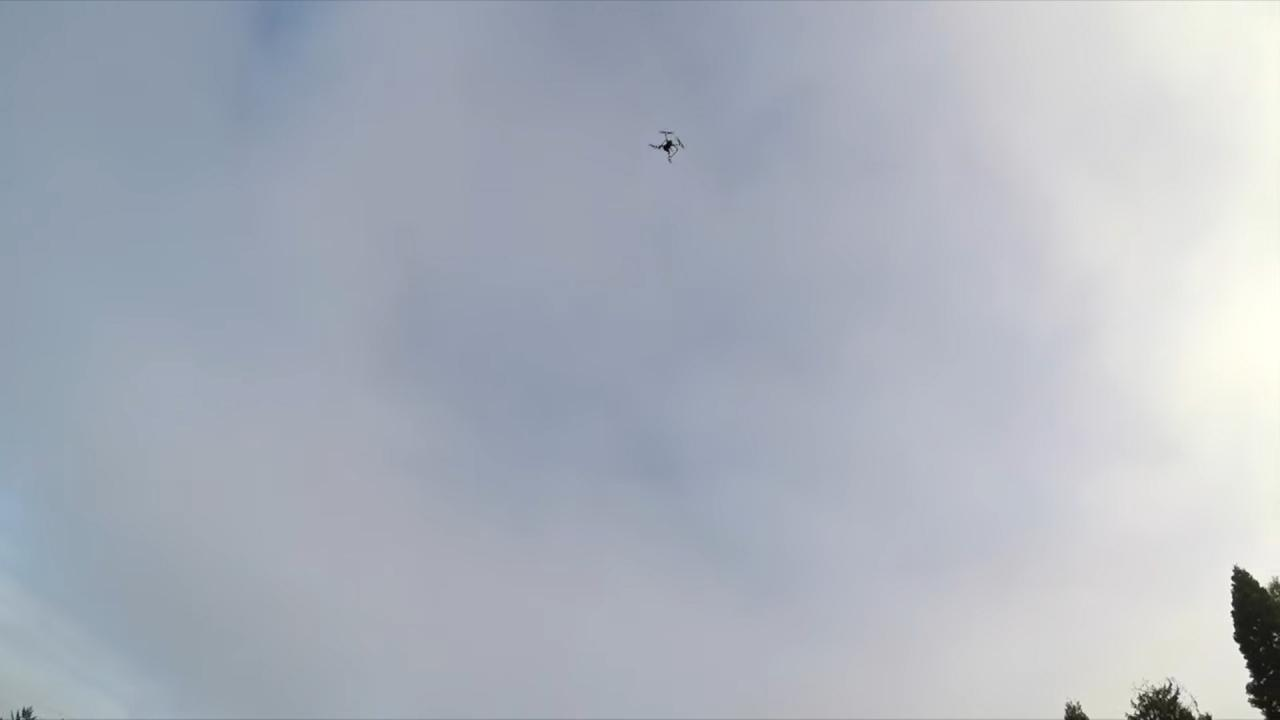Drone: (639, 119, 692, 168)
